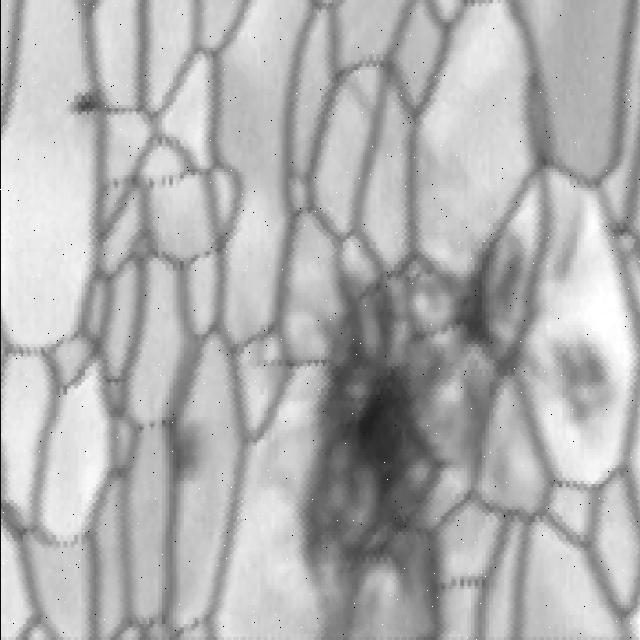good_void: (285, 222, 537, 640), (533, 327, 606, 448), (152, 396, 214, 489), (549, 196, 585, 291), (55, 81, 110, 129)
